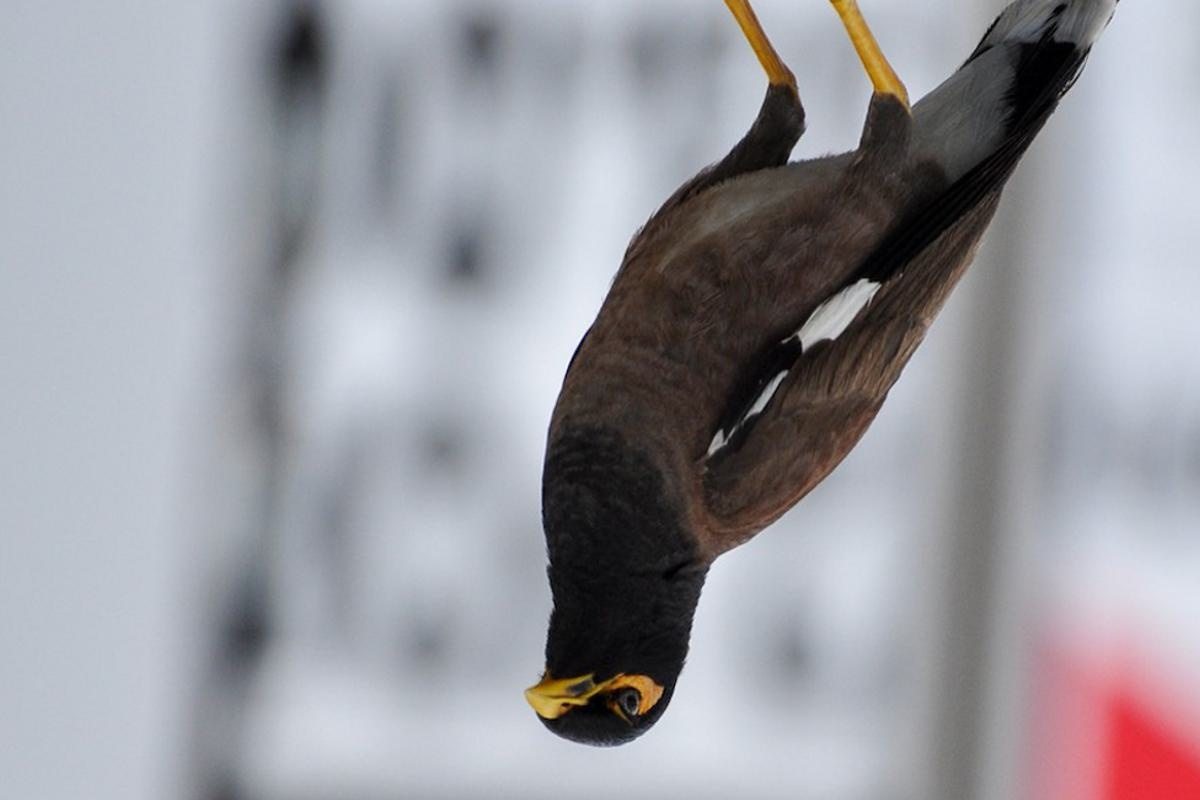myna: (491, 22, 1076, 783)
